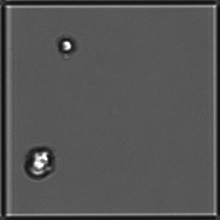Living Cell: (56, 30, 83, 66), (23, 142, 51, 176)
